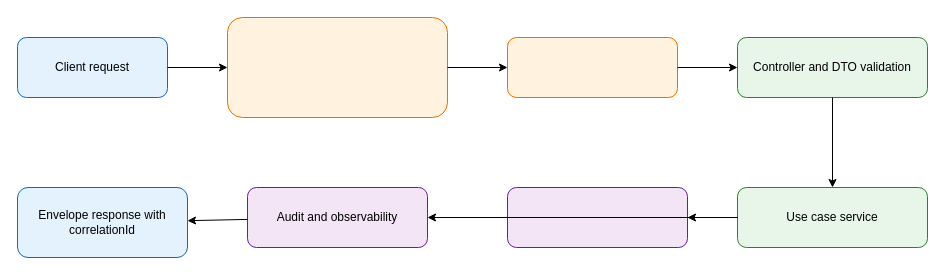
This 945x275 diagram has some shape labels left out. Here are the shapes that lost their labels. From the top down, the centre of each, then its label:
At [337,67]: "Middleware: correlation, CORS, cookies, CSRF, rate limit".
At [592,67]: "Guards and authorization".
At [597,217]: "Repository or adapter".
